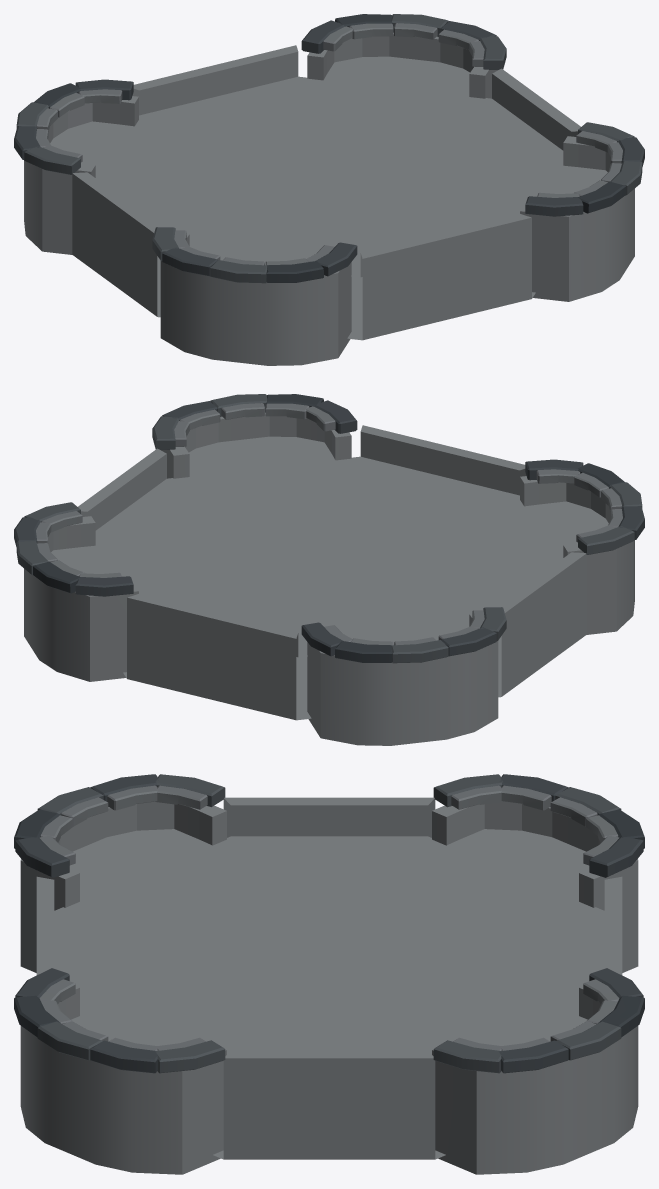
The model's file is ArenaBase.fbx.
3 renders of one model, top to bottom at view 1: azimuth 30°, elevation 25°; view 2: azimuth 150°, elevation 25°; view 3: azimuth 270°, elevation 25°, orthographic. The views are drawn at different scales.
Visible parts, largest first — view 1: ArenaBase; view 2: ArenaBase; view 3: ArenaBase.
Part boxes in pixels (bbox=[...]): ArenaBase: bbox=[14, 14, 644, 365]; ArenaBase: bbox=[14, 394, 644, 745]; ArenaBase: bbox=[14, 774, 644, 1174].
Bounding box in the file's own units: 748 × 146 × 693.
